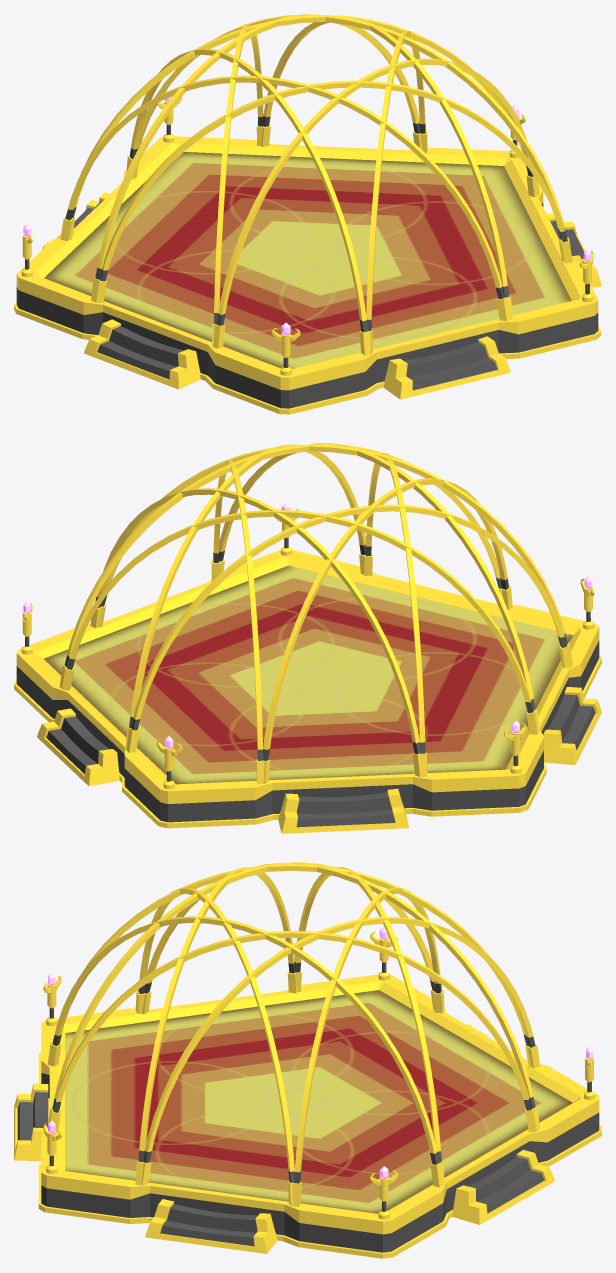
File: mage_quintagon_1.fbx
3 views of the same model, one above another, from view 1: azimuth 30°, elevation 25°; view 2: azimuth 150°, elevation 25°; view 3: azimuth 270°, elevation 25° (orthographic).
Visible parts, largest first — view 1: mat, cage, mage_quintagon_1, stairs, scepters; view 2: mat, cage, mage_quintagon_1, stairs, scepters; view 3: mat, cage, mage_quintagon_1, stairs, scepters.
Part boxes in pixels (left/top/right/bottom): mat: left=44, top=152, right=571, bottom=369; cage: left=60, top=14, right=572, bottom=355; mage_quintagon_1: left=14, top=136, right=600, bottom=414; stairs: left=42, top=192, right=601, bottom=399; scepters: left=21, top=89, right=593, bottom=375; mat: left=44, top=565, right=572, bottom=784; cage: left=59, top=443, right=572, bottom=784; mage_quintagon_1: left=14, top=550, right=601, bottom=828; stairs: left=37, top=687, right=601, bottom=833; scepters: left=21, top=502, right=594, bottom=789; mat: left=65, top=990, right=572, bottom=1213; cage: left=47, top=862, right=540, bottom=1206; mage_quintagon_1: left=38, top=974, right=601, bottom=1258; stairs: left=14, top=1024, right=554, bottom=1253; scepters: left=43, top=927, right=595, bottom=1219.
Size of the model in its own units: 22.4 by 9.82 by 22.24.
Materials: 4 (1 with a texture image).
